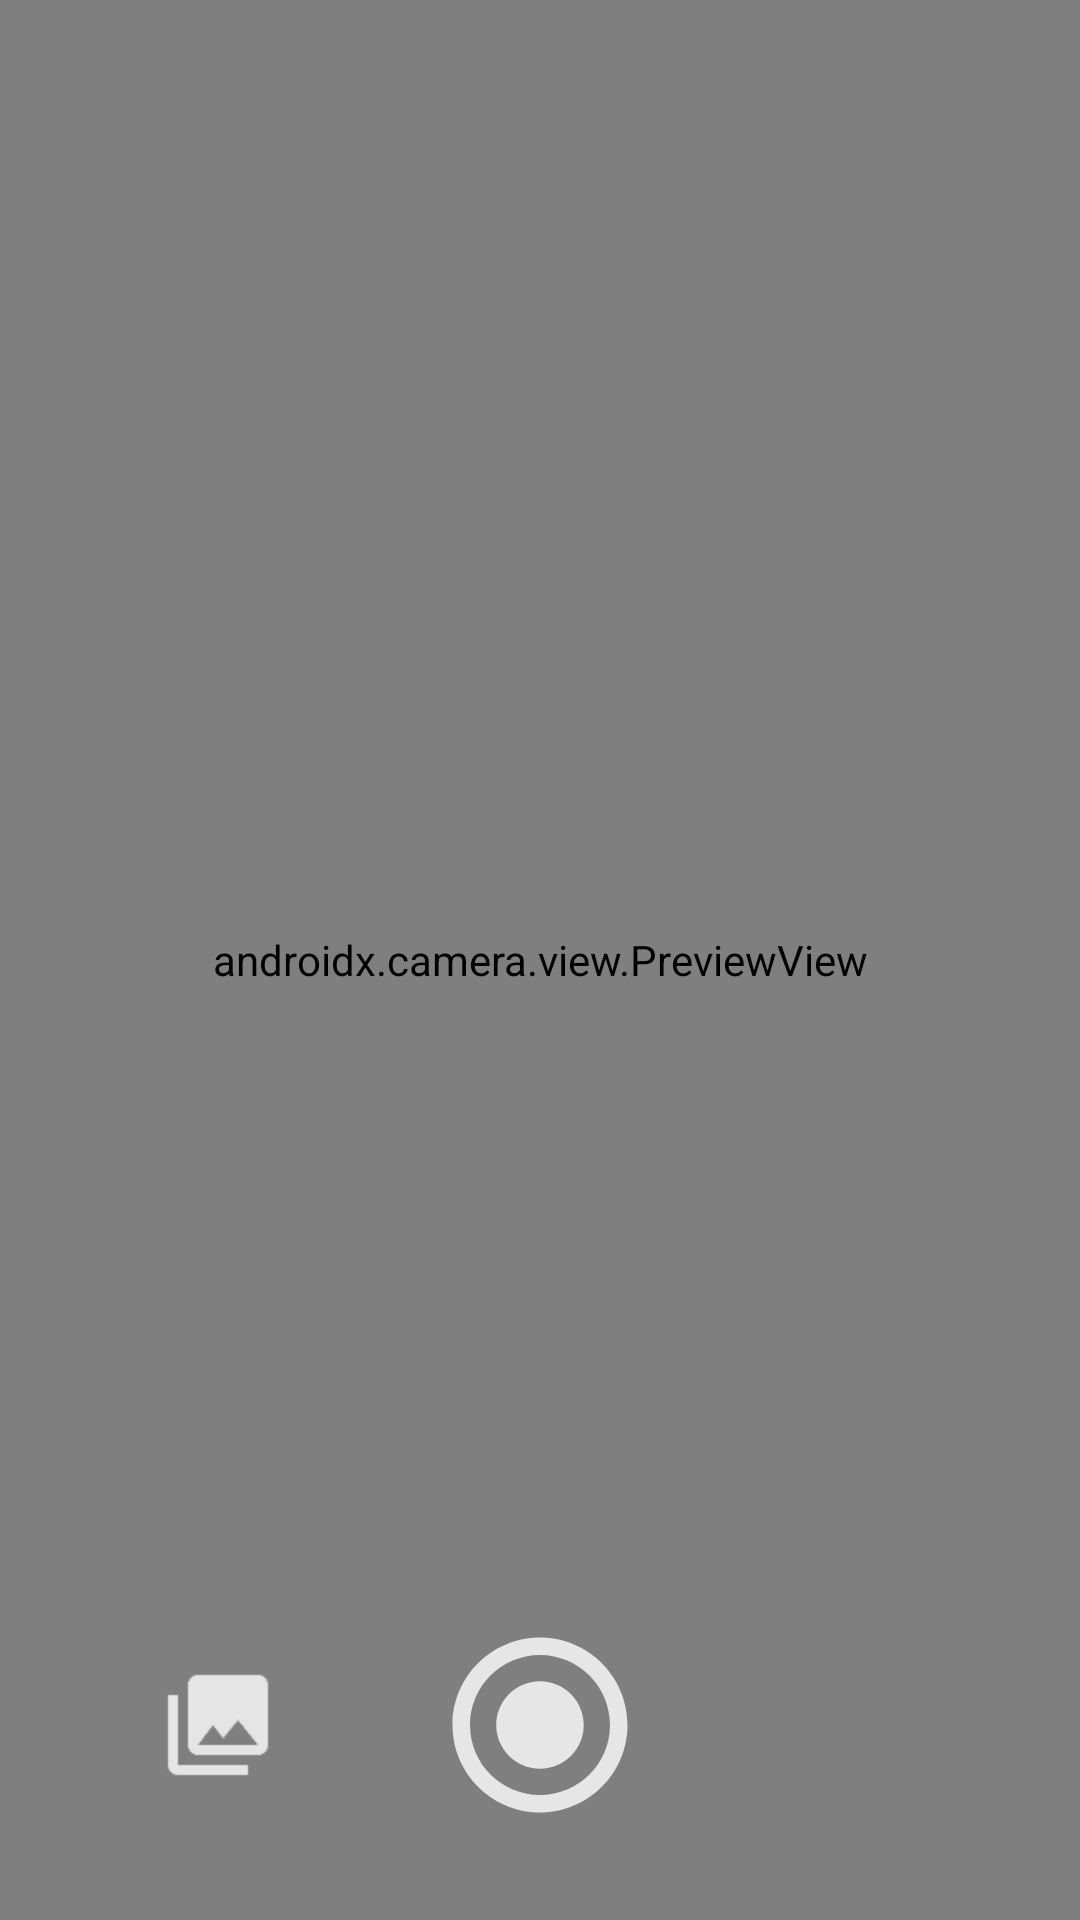

Screen size 1080w x 1920h. Icon name, then its box in pixels as bbox=(x1, y1, x2, y2):
camera capture: bbox=(452, 1637, 628, 1813)
camera library: bbox=(168, 1675, 268, 1775)
